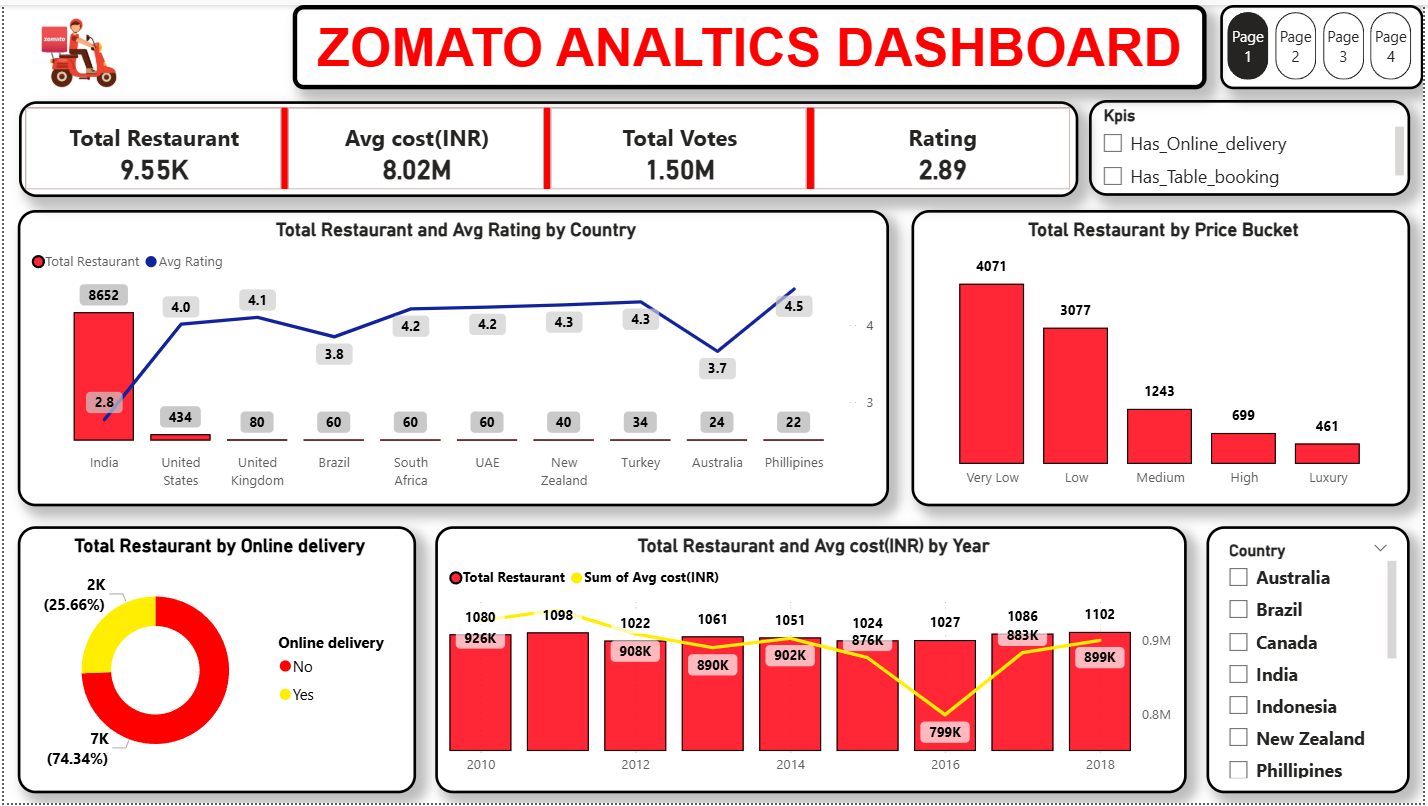

What the dashboard file says about the page in this screenshot:
{"tool":"tableau","page":{"name":"Dashboard 1","canvas":[1657,851],"ordinal":0},"visuals":[{"type":"text","box":[4,5,1645,51]},{"type":"worksheet","title":"Sheet 6","mark":"Automatic","box":[416,64,188,104]},{"type":"worksheet","title":"Sheet 7","mark":"Automatic","box":[613,64,190,106]},{"type":"worksheet","title":"Sheet 4","mark":"Automatic","box":[5,65,198,106]},{"type":"worksheet","title":"Sheet 5","mark":"Automatic","box":[215,65,191,104]},{"type":"parameter","param":"[Parameters].[Parameter 1]","box":[814,65,236,104]},{"type":"filter","title":"Sheet 3","param":"[federated.0rl1kd80gea5mm13ta0ip10nwcs1].[yr:Date:qk]","box":[1063,67,360,100]},{"type":"filter","title":"Sheet 1","param":"[federated.0rl1kd80gea5mm13ta0ip10nwcs1].[none:Country:nk]","box":[1438,67,208,97]},{"type":"worksheet","title":"Sheet 11","mark":"Automatic","rows":["Cuisines"],"cols":["Calculation_0196047171346433"],"box":[1179,174,464,317]},{"type":"worksheet","title":"Sheet 1","mark":"Automatic","rows":["Calculation_0196047171346433"],"cols":["Country"],"box":[7,177,746,314]},{"type":"worksheet","title":"Sheet 10","mark":"Pie","box":[760,177,409,313]},{"type":"worksheet","title":"Sheet 3","mark":"Automatic","rows":["Calculation_0196047171346433"],"cols":["Year"],"box":[7,502,1031,335]},{"type":"worksheet","title":"Sheet 2","mark":"Automatic","rows":["Calculation_0196047172218883"],"cols":["Calculation_0196047175282693"],"box":[1051,504,598,337]}]}

Visuals, with their boxes in screenshot pixels (x1, y1, x2, y2):
text: rect(11, 49, 1409, 92)
"Sheet 6" worksheet: rect(361, 99, 521, 187)
"Sheet 7" worksheet: rect(528, 99, 690, 189)
"Sheet 4" worksheet: rect(12, 100, 180, 190)
"Sheet 5" worksheet: rect(190, 100, 352, 188)
parameter: rect(699, 100, 900, 188)
"Sheet 3" filter: rect(911, 102, 1217, 187)
"Sheet 1" filter: rect(1230, 102, 1406, 184)
"Sheet 11" worksheet: rect(1009, 192, 1404, 462)
"Sheet 1" worksheet: rect(13, 195, 647, 462)
"Sheet 10" worksheet (Pie marks): rect(653, 195, 1001, 461)
"Sheet 3" worksheet: rect(13, 471, 890, 756)
"Sheet 2" worksheet: rect(901, 473, 1409, 759)
